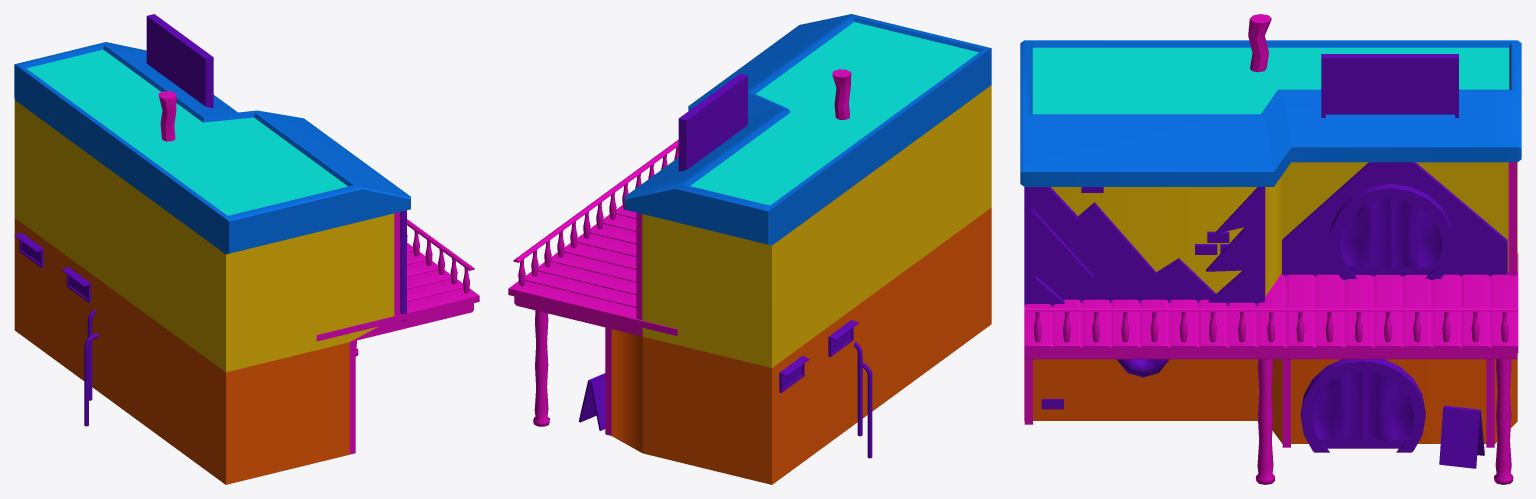
File: ShopC.fbx
3 views of the same model, side by side, from view 1: azimuth 30°, elevation 25°; view 2: azimuth 150°, elevation 25°; view 3: azimuth 270°, elevation 25° (orthographic). The views are drawn at different scales.
Parts seen in each view (by area): view 1: MasterBuilding_B1, ShopsC; view 2: MasterBuilding_B1, ShopsC; view 3: MasterBuilding_B1, ShopsC.
Boxes of the visible parts, <box> form: MasterBuilding_B1: <box>14,42,479,484</box>; ShopsC: <box>14,14,406,426</box>; MasterBuilding_B1: <box>508,14,991,484</box>; ShopsC: <box>578,73,872,458</box>; MasterBuilding_B1: <box>1020,14,1521,484</box>; ShopsC: <box>1024,54,1507,468</box>.
Size of the model in its own units: 34.35 by 41.62 by 47.94.
